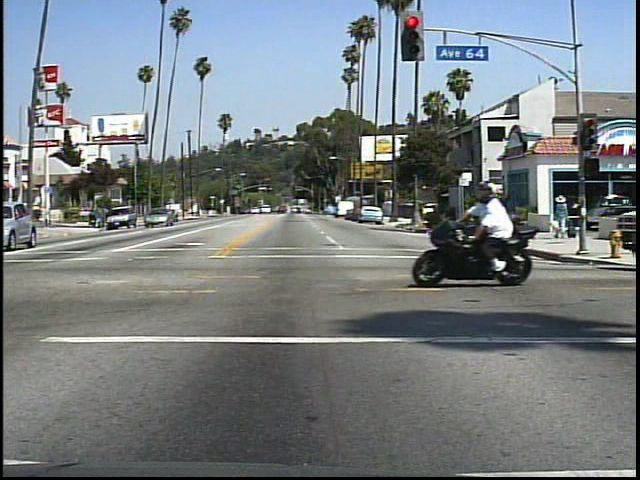person: (468, 177, 531, 281), (552, 192, 575, 238)
